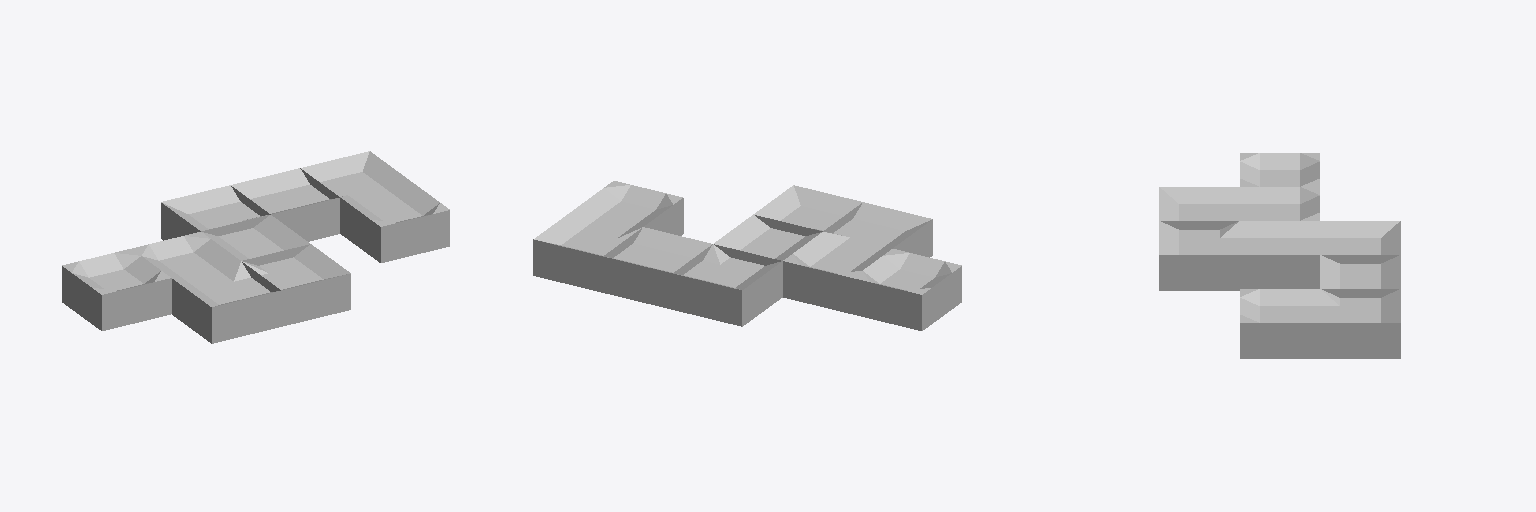
File: 46f_path.obj
The picture shows the model from 3 angles: view 1: azimuth 30°, elevation 25°; view 2: azimuth 150°, elevation 25°; view 3: azimuth 270°, elevation 25°; orthographic projection.
Visible parts, largest first — view 1: foil.hole.0.1_Cube.243, foil.corner.1.0_corner.1193, foil.ending.4.1_ending.484, foil.corner.2.0_corner.1194, foil.through.3.2_through.256, foil.corner.4.2_corner.1196, foil.corner.2.2_corner.1195, foil.ending.1.1_ending.483, foil.through.2.1_through.255; view 2: foil.hole.0.1_Cube.243, foil.corner.2.2_corner.1195, foil.through.3.2_through.256, foil.corner.4.2_corner.1196, foil.ending.1.1_ending.483, foil.ending.4.1_ending.484, foil.corner.1.0_corner.1193, foil.corner.2.0_corner.1194, foil.through.2.1_through.255; view 3: foil.ending.4.1_ending.484, foil.through.2.1_through.255, foil.corner.4.2_corner.1196, foil.corner.2.0_corner.1194, foil.corner.1.0_corner.1193, foil.through.3.2_through.256, foil.corner.2.2_corner.1195, foil.hole.0.1_Cube.243, foil.ending.1.1_ending.483.
Boxes of the visible parts, x1,y1,x2,y2 form: foil.hole.0.1_Cube.243: [62, 249, 171, 330]; foil.corner.1.0_corner.1193: [172, 261, 281, 343]; foil.ending.4.1_ending.484: [340, 181, 449, 262]; foil.corner.2.0_corner.1194: [242, 244, 350, 326]; foil.through.3.2_through.256: [231, 168, 339, 241]; foil.corner.4.2_corner.1196: [301, 151, 409, 201]; foil.corner.2.2_corner.1195: [161, 185, 267, 240]; foil.ending.1.1_ending.483: [132, 232, 240, 282]; foil.through.2.1_through.255: [201, 215, 309, 263]; foil.hole.0.1_Cube.243: [852, 249, 961, 330]; foil.corner.2.2_corner.1195: [673, 244, 782, 326]; foil.through.3.2_through.256: [603, 227, 712, 309]; foil.corner.4.2_corner.1196: [533, 210, 642, 292]; foil.ending.1.1_ending.483: [783, 232, 890, 313]; foil.ending.4.1_ending.484: [574, 181, 683, 235]; foil.corner.1.0_corner.1193: [823, 202, 932, 257]; foil.corner.2.0_corner.1194: [753, 185, 862, 235]; foil.through.2.1_through.255: [714, 215, 822, 265]; foil.ending.4.1_ending.484: [1240, 289, 1319, 358]; foil.through.2.1_through.255: [1240, 221, 1319, 288]; foil.corner.4.2_corner.1196: [1320, 289, 1400, 358]; foil.corner.2.0_corner.1194: [1159, 221, 1239, 290]; foil.corner.1.0_corner.1193: [1159, 187, 1239, 229]; foil.through.3.2_through.256: [1320, 255, 1400, 297]; foil.corner.2.2_corner.1195: [1320, 221, 1400, 254]; foil.hole.0.1_Cube.243: [1240, 153, 1319, 186]; foil.ending.1.1_ending.483: [1240, 187, 1319, 220].
Size of the model in its own units: 10 by 1 by 6.